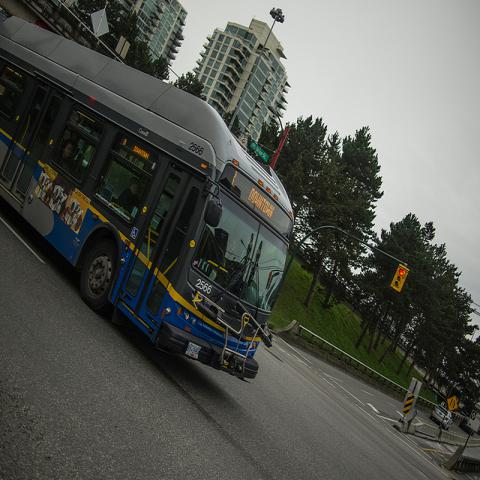bus: (1, 17, 298, 383)
car: (431, 402, 453, 430), (459, 417, 474, 436)
